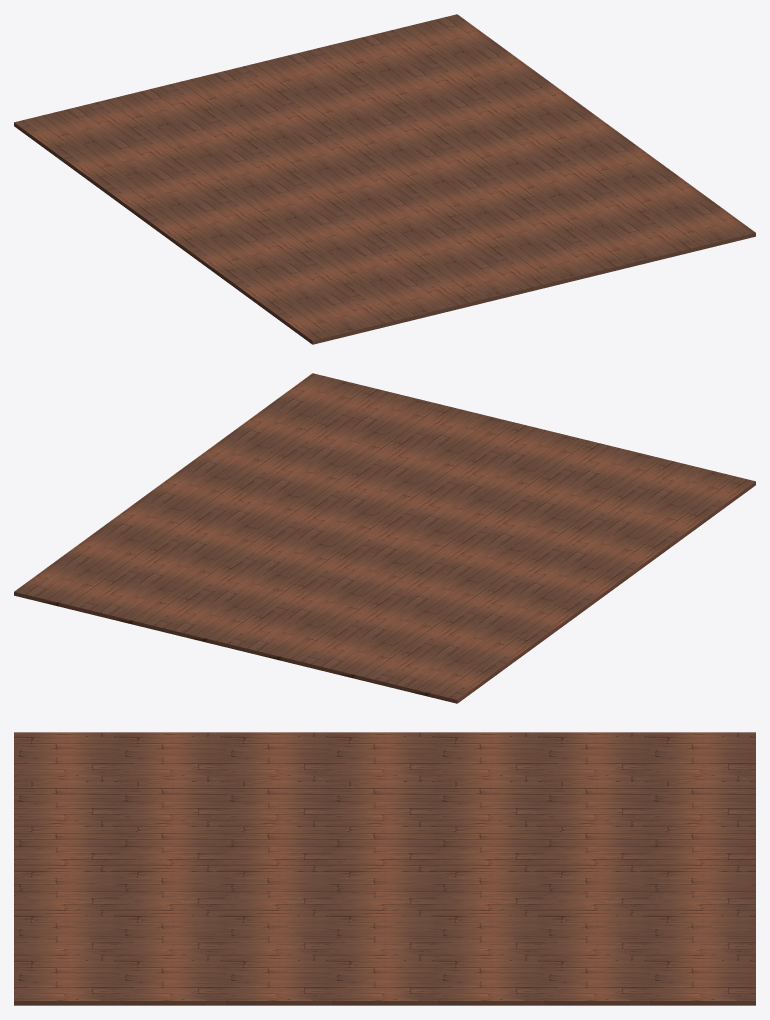
File: 2ND_Floor.fbx
3 views of the same model, one above another, from view 1: azimuth 30°, elevation 25°; view 2: azimuth 150°, elevation 25°; view 3: azimuth 270°, elevation 25° (orthographic). The views are drawn at different scales.
Visible parts, largest first — view 1: Floor_Tile.002; view 2: Floor_Tile.002; view 3: Floor_Tile.002.
Boxes of the visible parts, x1,y1,x2,y2 form: Floor_Tile.002: [14, 14, 755, 344]; Floor_Tile.002: [14, 373, 755, 703]; Floor_Tile.002: [14, 732, 755, 1005].
Bounding box in the file's own units: 1200 × 10 × 1400.
Materials: 1 (1 with a texture image).
